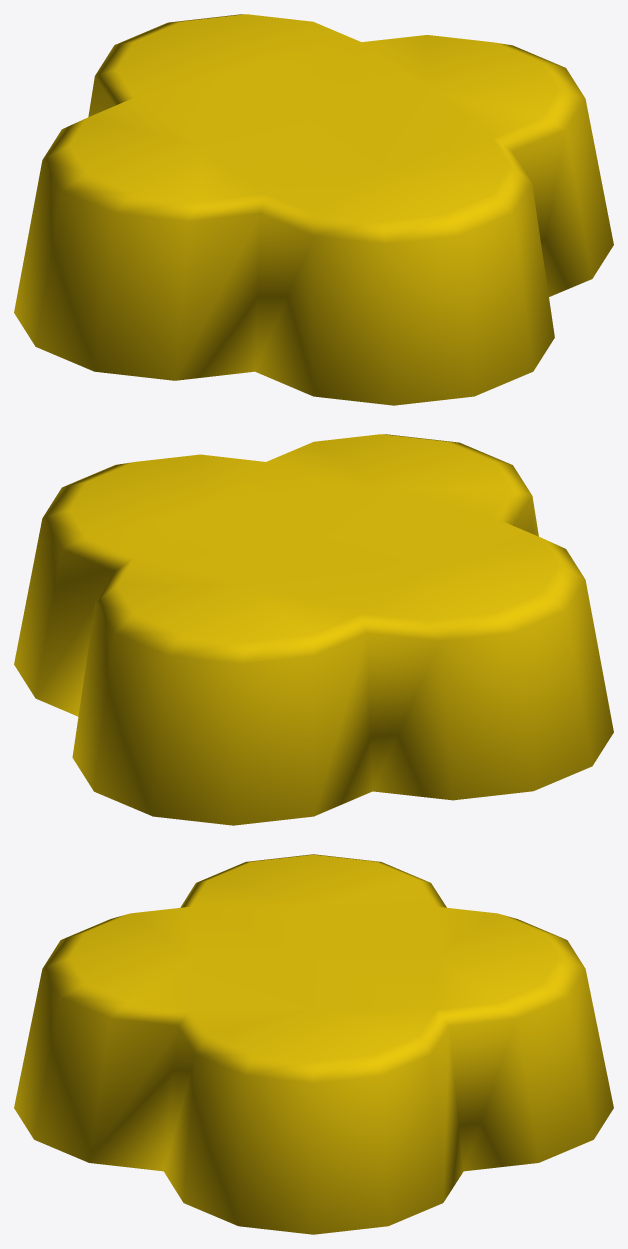
Rendered from Pillar_Flower_Down_01.fbx.
The picture shows the model from 3 angles, top to bottom: view 1: azimuth 30°, elevation 25°; view 2: azimuth 150°, elevation 25°; view 3: azimuth 270°, elevation 25°; orthographic projection. The views are drawn at different scales.
Parts seen in each view (by area): view 1: Pillar_Flower_Down_01; view 2: Pillar_Flower_Down_01; view 3: Pillar_Flower_Down_01.
Boxes of the visible parts, <box> form: Pillar_Flower_Down_01: <box>14,14,613,405</box>; Pillar_Flower_Down_01: <box>14,434,613,825</box>; Pillar_Flower_Down_01: <box>14,854,613,1234</box>.
Bounding box in the file's own units: 131 × 36.16 × 131.
